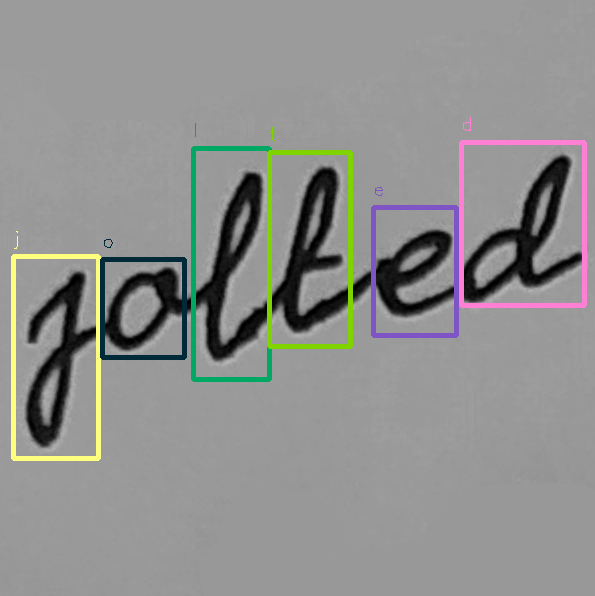d: (457, 149, 590, 312)
e: (368, 226, 457, 319)
j: (17, 268, 93, 450)
l: (199, 166, 272, 367)
o: (101, 262, 186, 357)
t: (280, 163, 354, 336)
